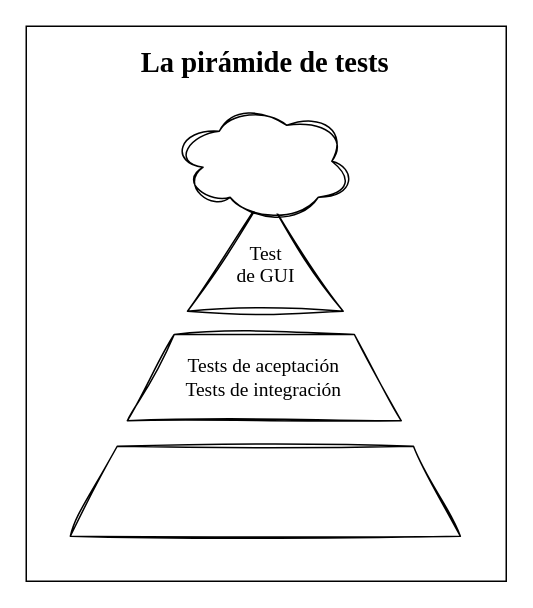
The diagram is 533 pixels wide and 608 high, and some of its shapes have lost their labels. Each missing label, with the centre of its shape:
"Tests manuales" belongs at pixel 263 160.
"Tests unitarios" belongs at pixel 264 490.
